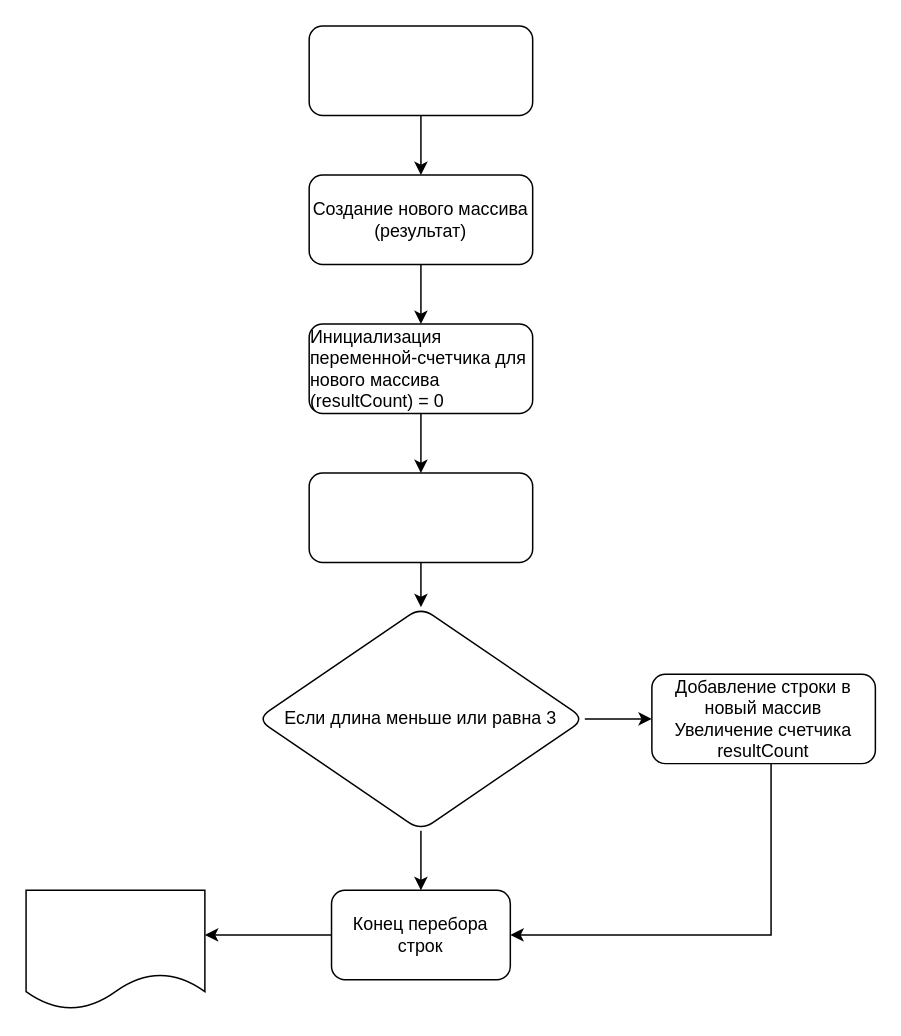
Image size: 901x1036. Some labels were removed from this diagram. The centre of each missing label's shape, as x and y in pixels:
"Ввод массива строк" belongs at (x=420, y=70).
"Вывод нового массива" belongs at (x=115, y=949).
"Перебор строк в исходном массиве" belongs at (x=420, y=517).
